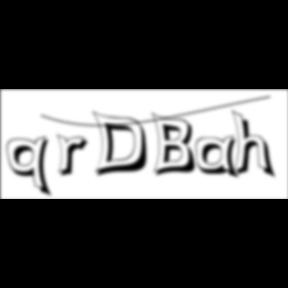B: (152, 111, 202, 179)
D: (92, 110, 154, 180)
a: (196, 135, 244, 182)
h: (232, 108, 278, 182)
q: (7, 135, 56, 200)
r: (57, 134, 95, 180)
